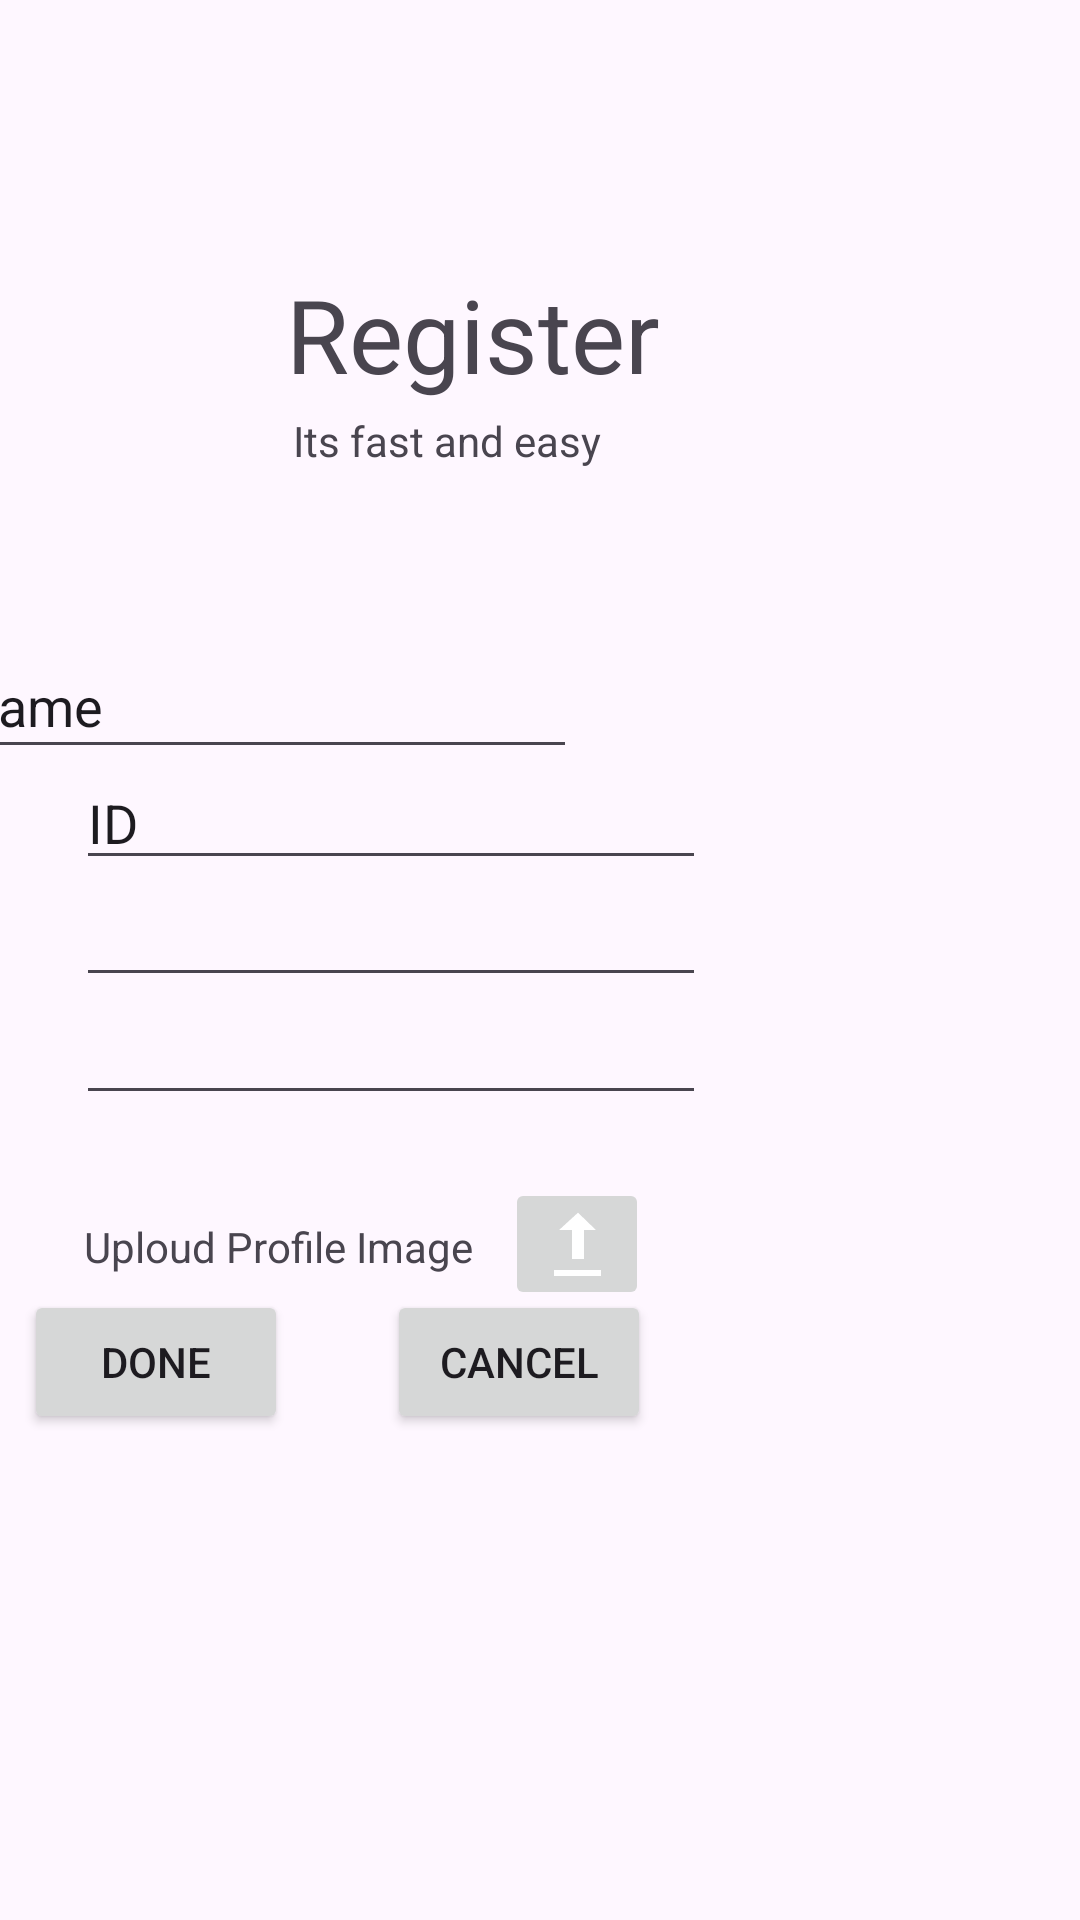

Icons on this 1080w x 1920h Android screen, each with its box as (x1, y1, x2, y2):
upload: (517, 1196, 637, 1292)
